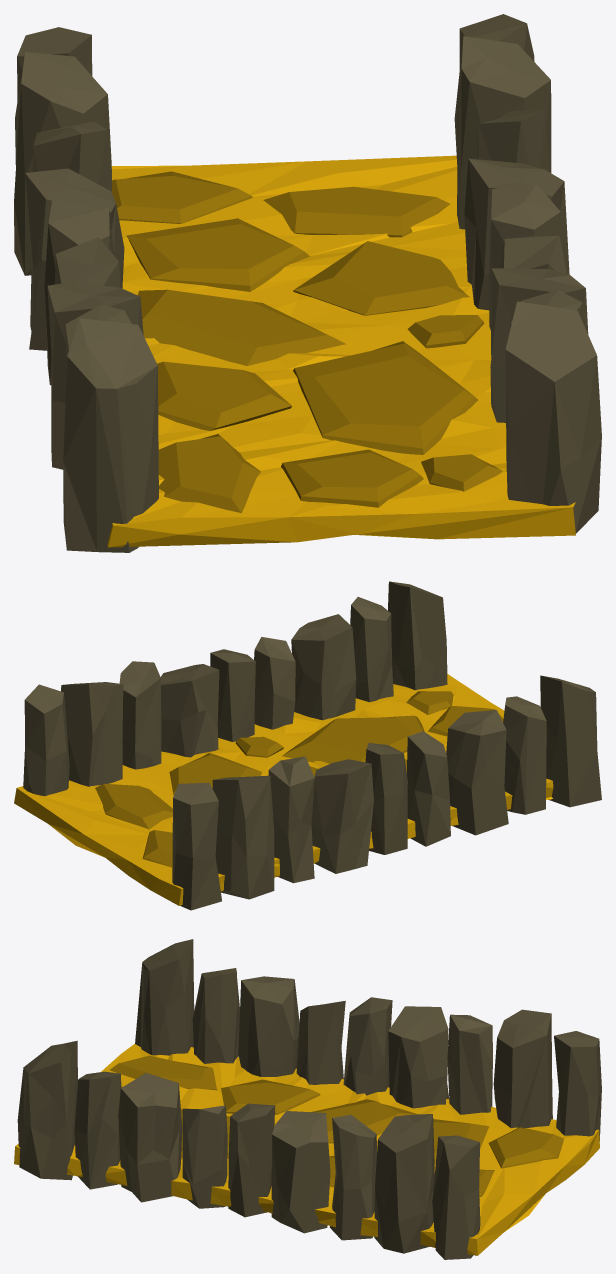
The model's file is stm_env_BridgeMiddle.fbx.
3 renders of one model, top to bottom at view 1: azimuth 30°, elevation 25°; view 2: azimuth 150°, elevation 25°; view 3: azimuth 270°, elevation 25°, orthographic. The views are drawn at different scales.
Visible parts, largest first — view 1: Bridge_Middle; view 2: Bridge_Middle; view 3: Bridge_Middle.
Boxes of the visible parts, left/top/right/bottom form: Bridge_Middle: left=14, top=14, right=601, bottom=552; Bridge_Middle: left=14, top=581, right=601, bottom=910; Bridge_Middle: left=14, top=939, right=601, bottom=1259.
Bounding box in the file's own units: 776 × 221 × 914.
